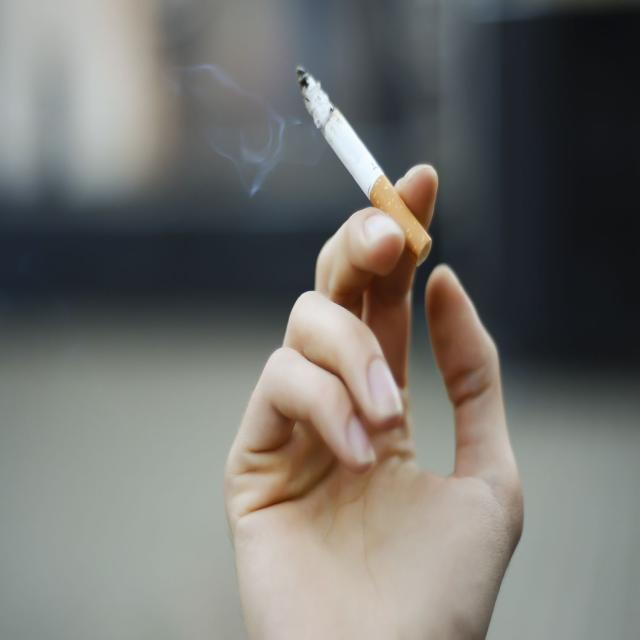Cigarette: (286, 61, 436, 259)
